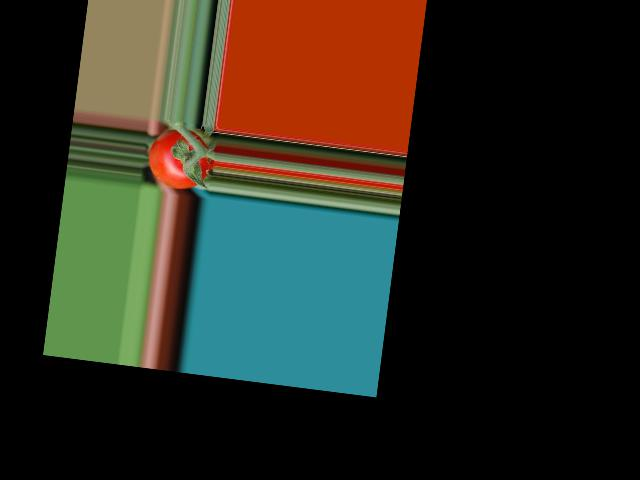tomato: (145, 125, 217, 193)
